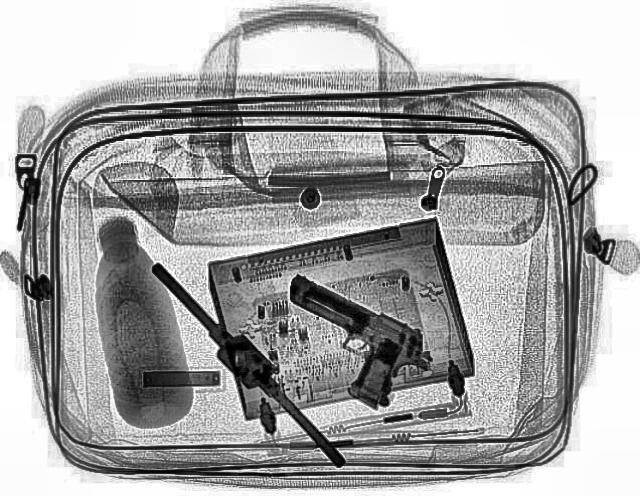Gun: (229, 271, 449, 413)
